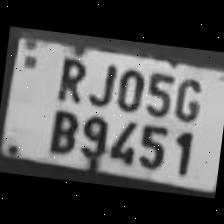0: (110, 62, 148, 114)
1: (162, 122, 200, 177)
4: (104, 113, 140, 164)
5: (132, 116, 170, 169), (140, 66, 176, 117)
9: (76, 110, 110, 160)
B: (44, 104, 80, 154)
G: (168, 70, 205, 122)
J: (83, 56, 116, 110)
R: (51, 50, 89, 102)
